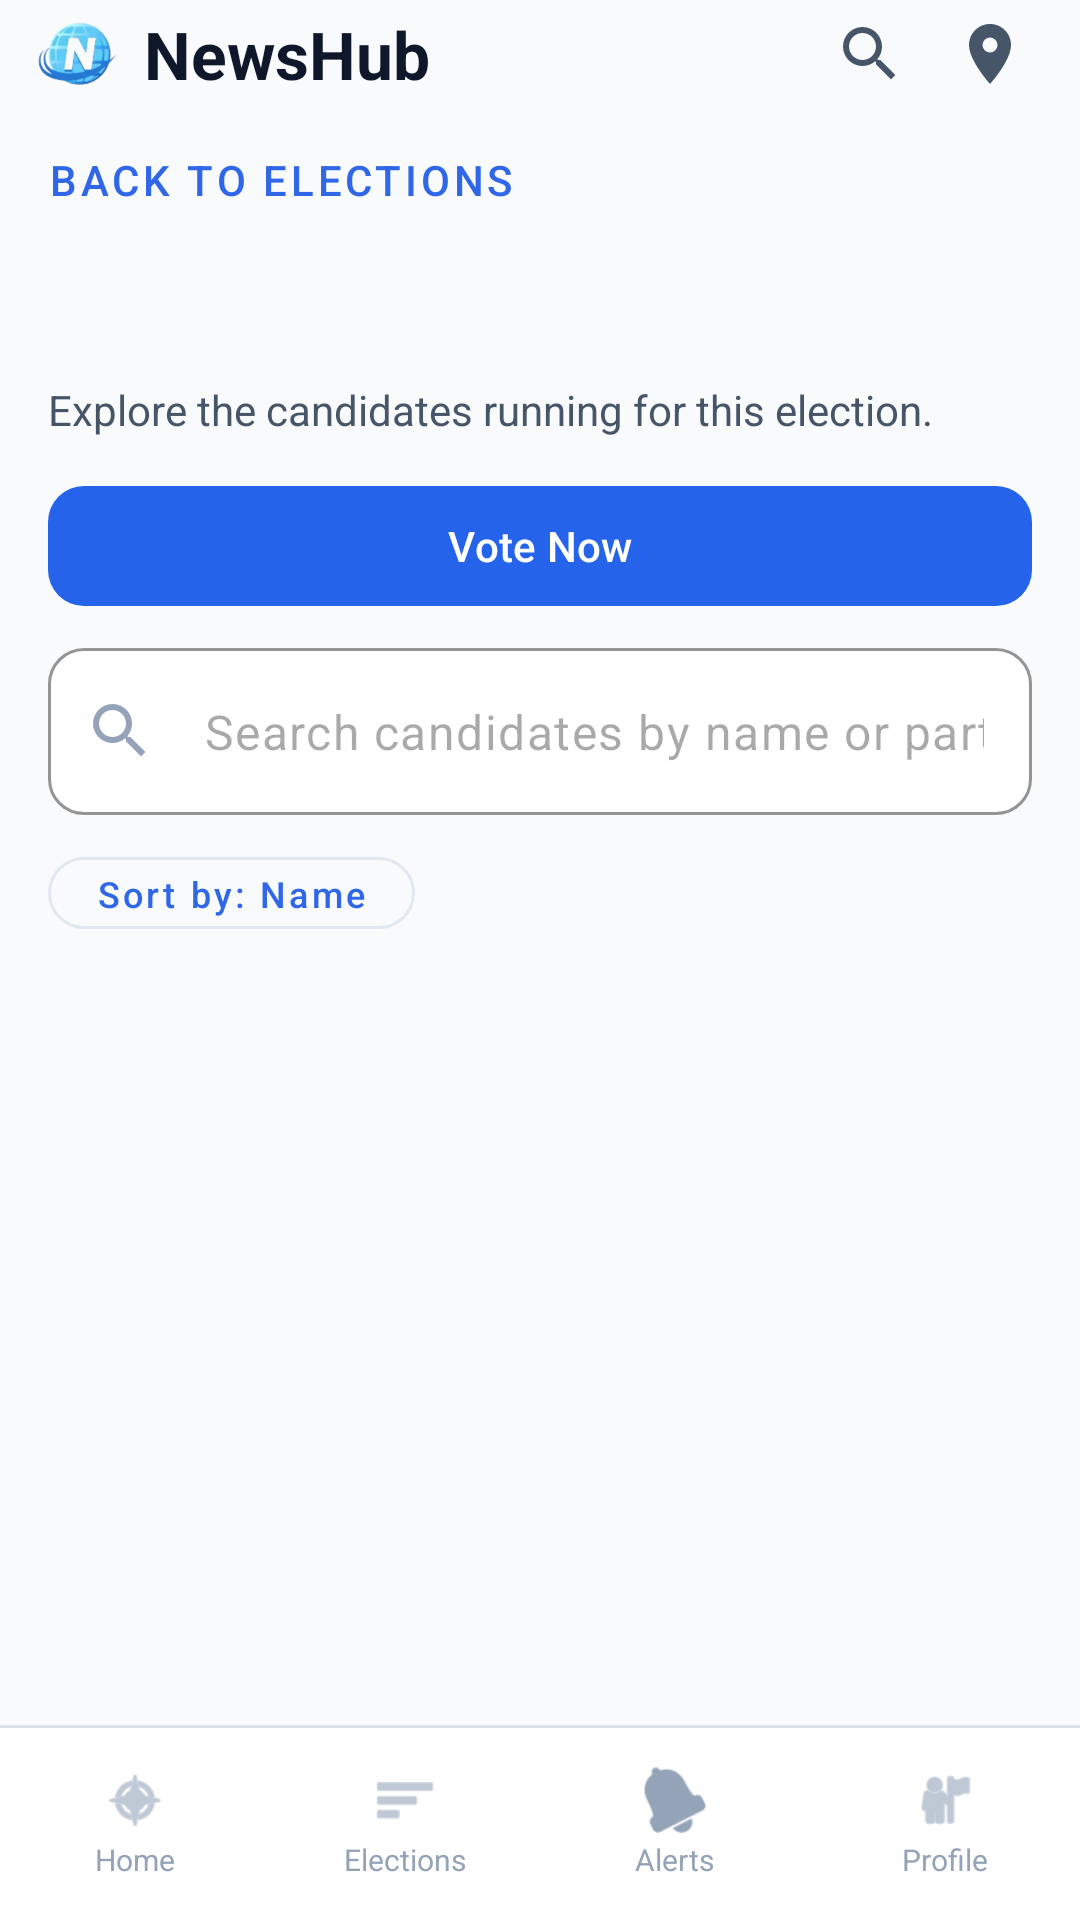

Where to tap for icons on this 1080×1920 app screen, as [x,y]:
compass: [135,1800]
popup reminder: [675,1800]
Search: [869,53]
sort by size: [405,1800]
Update location: [990,54]
